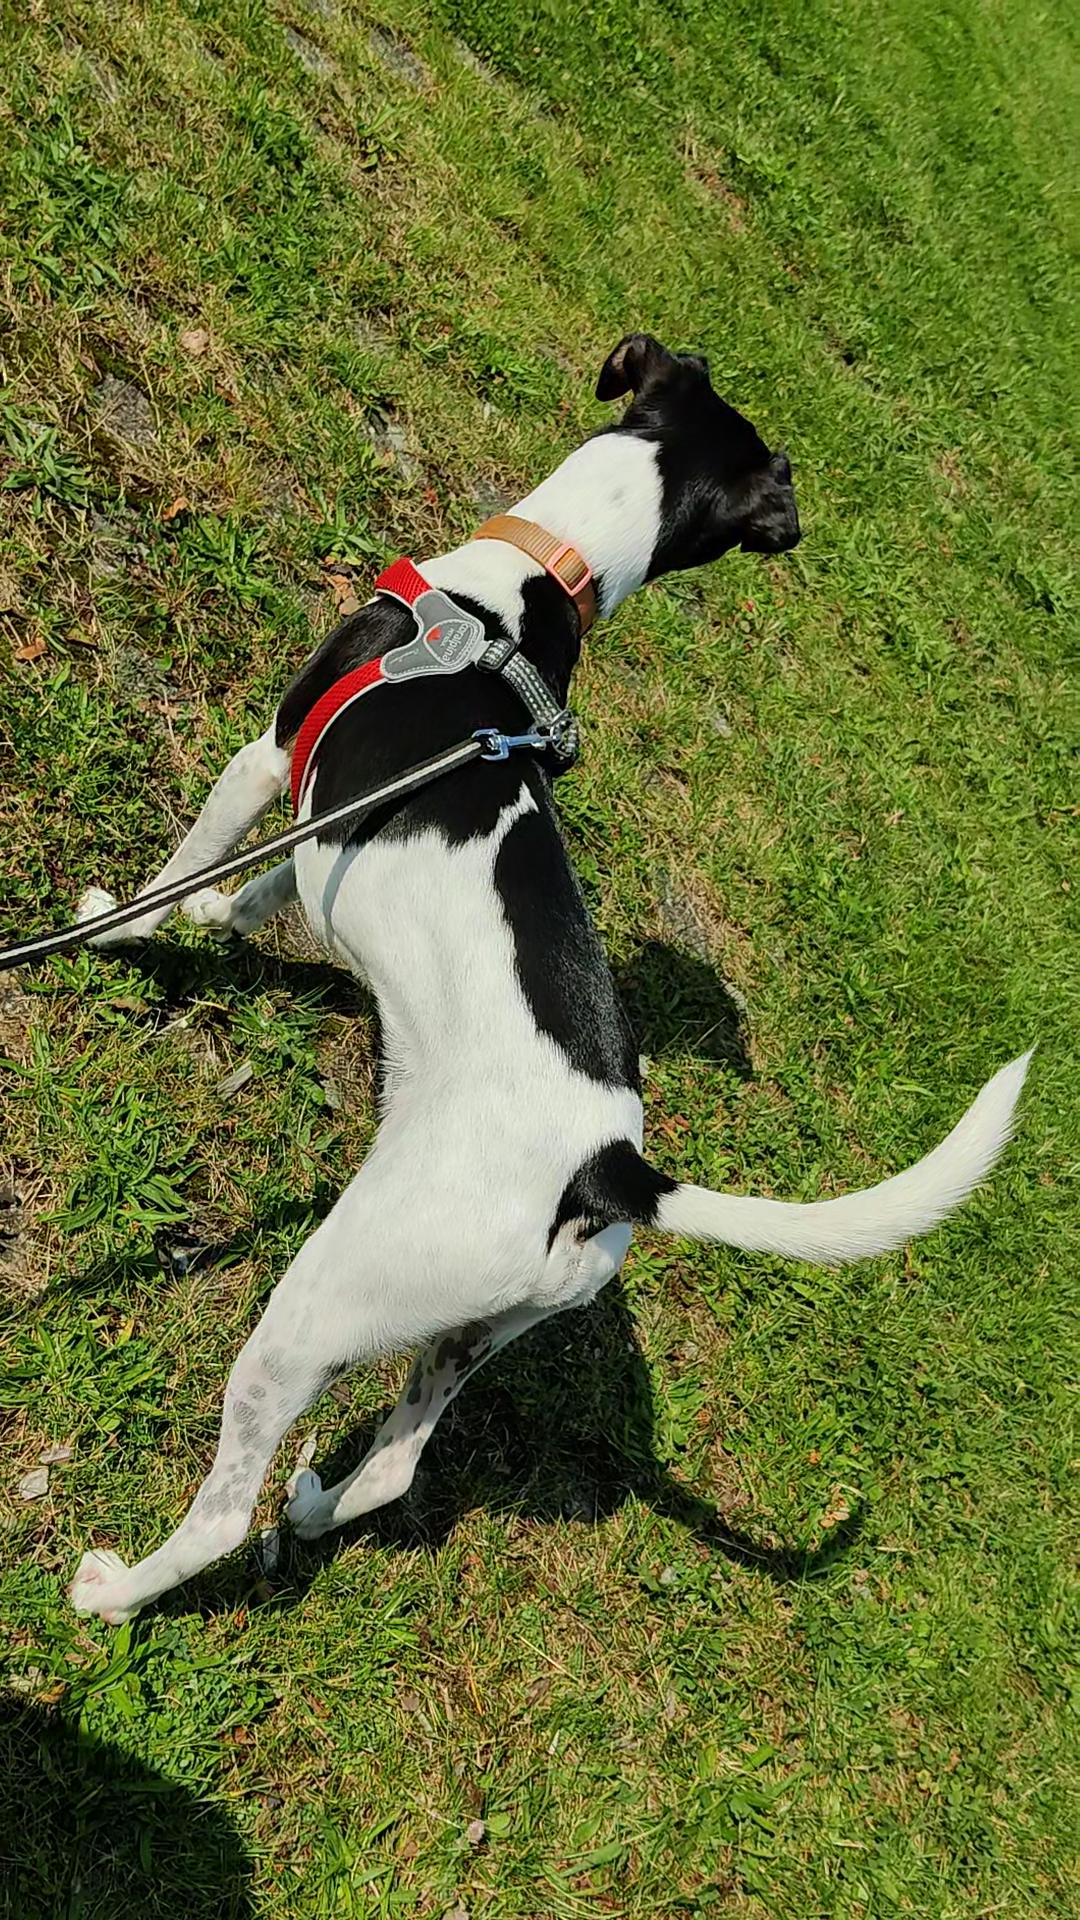Dog: (65, 330, 1047, 1629)
